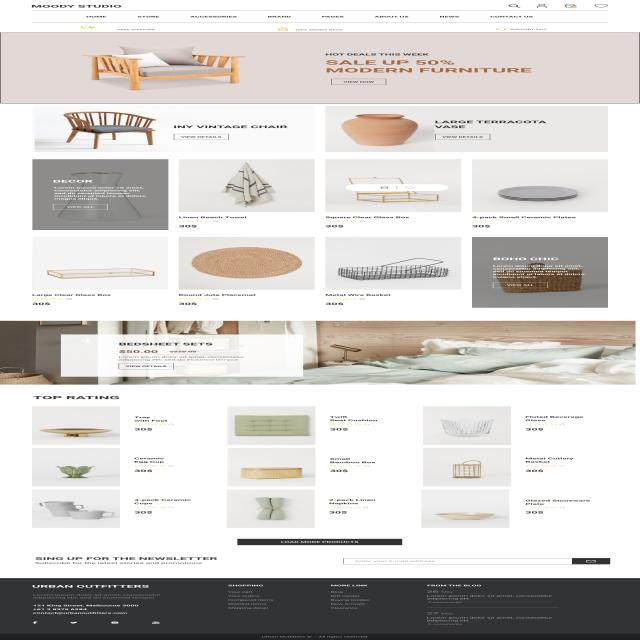ProductTileRow: (16, 401, 613, 446), (20, 486, 604, 530)
